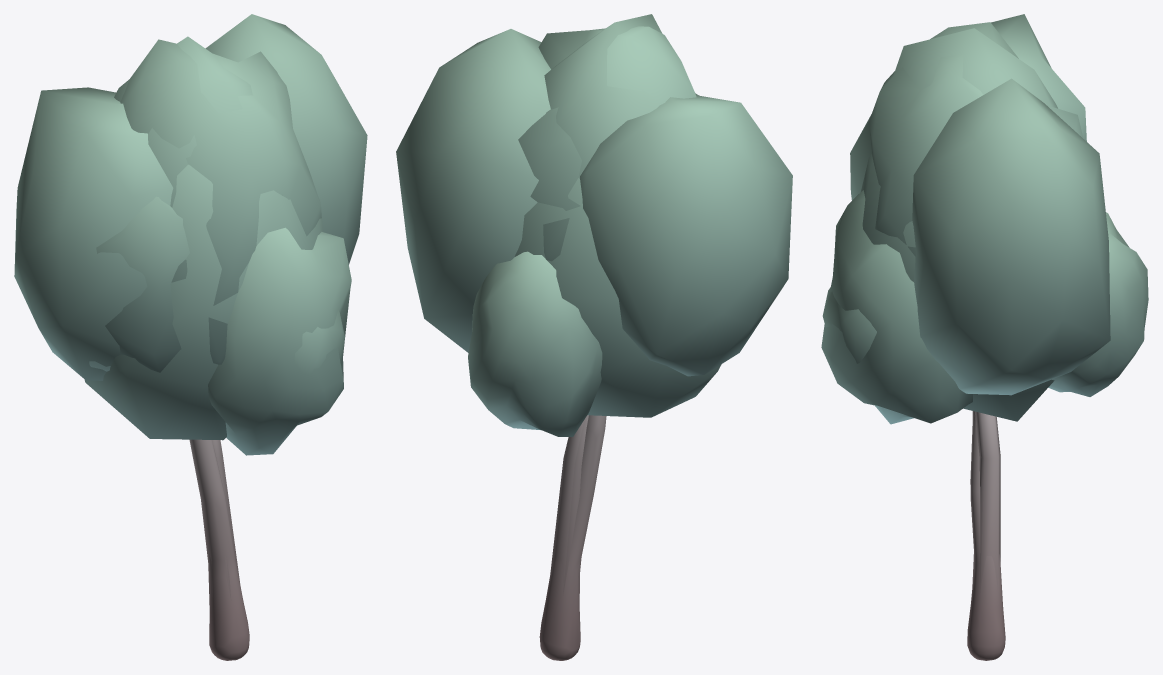
The model's file is alder.glb.
3 renders of one model, left to right at view 1: azimuth 30°, elevation 25°; view 2: azimuth 150°, elevation 25°; view 3: azimuth 270°, elevation 25°, orthographic. The views are drawn at different scales.
Parts seen in each view (by area): view 1: far, near; view 2: far, near; view 3: far, near.
Boxes of the visible parts, <box> form: far: <box>14,14,367,600</box>; near: <box>89,39,351,660</box>; far: <box>396,14,792,596</box>; near: <box>468,26,696,660</box>; far: <box>861,14,1110,592</box>; near: <box>821,22,1148,660</box>.
Size of the model in its own units: 6.97 by 12.43 by 6.06.
